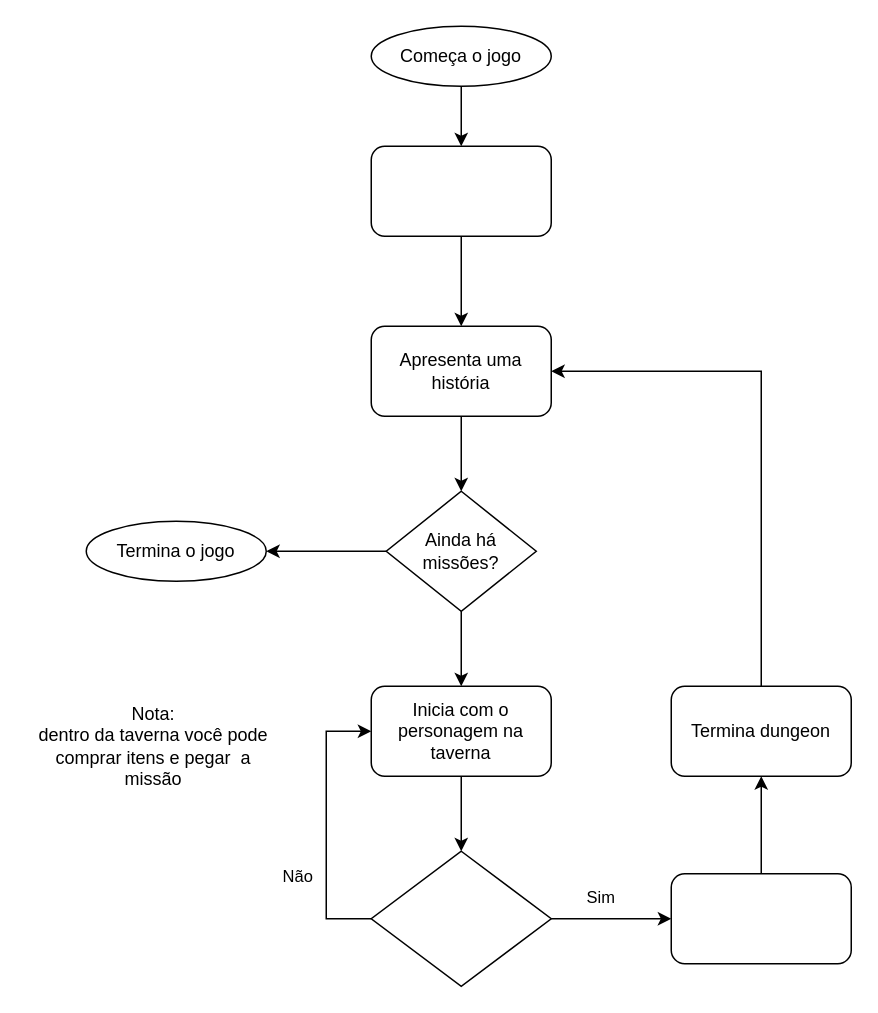
Some shapes in this 878 by 1013 pixel diagram are drawn without their labels. The shapes that lost their labels are listed below. From the top down, each one's box as (x1, y1, x2, y2) in pixels, then its label:
(370, 145, 551, 236): Cria personagem
(370, 850, 551, 986): Aceita missão?
(670, 872, 851, 964): Luta na dungeon
